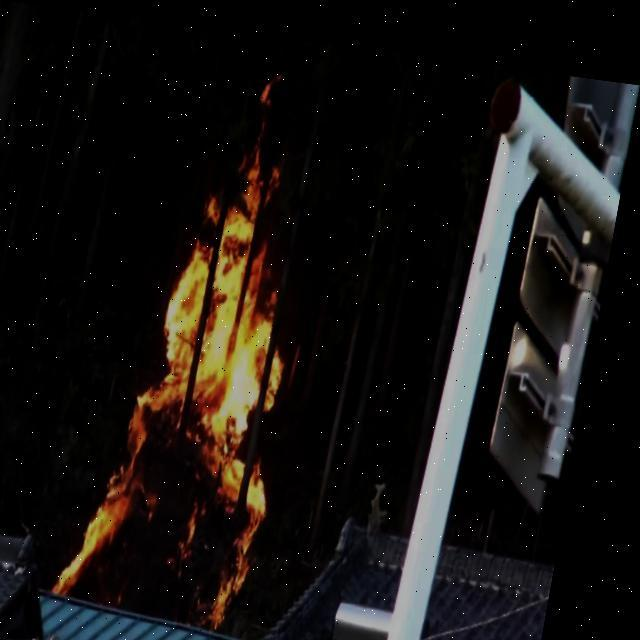Fire: (80, 46, 348, 622)
